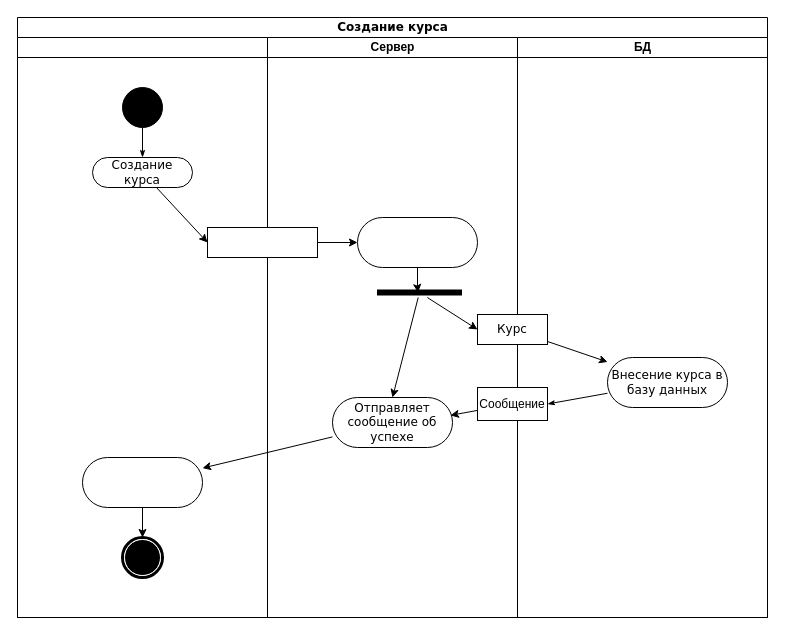
This 785x635 diagram has some shape labels left out. The box of each missing label's shape, as (x1, y1, x2, y2) in pixels:
Автор: (16, 36, 268, 618)
Материалы курса: (206, 226, 318, 258)
Получает сообщение об успехе: (82, 456, 202, 508)
Приведение данных к нужному формату: (356, 216, 478, 268)
